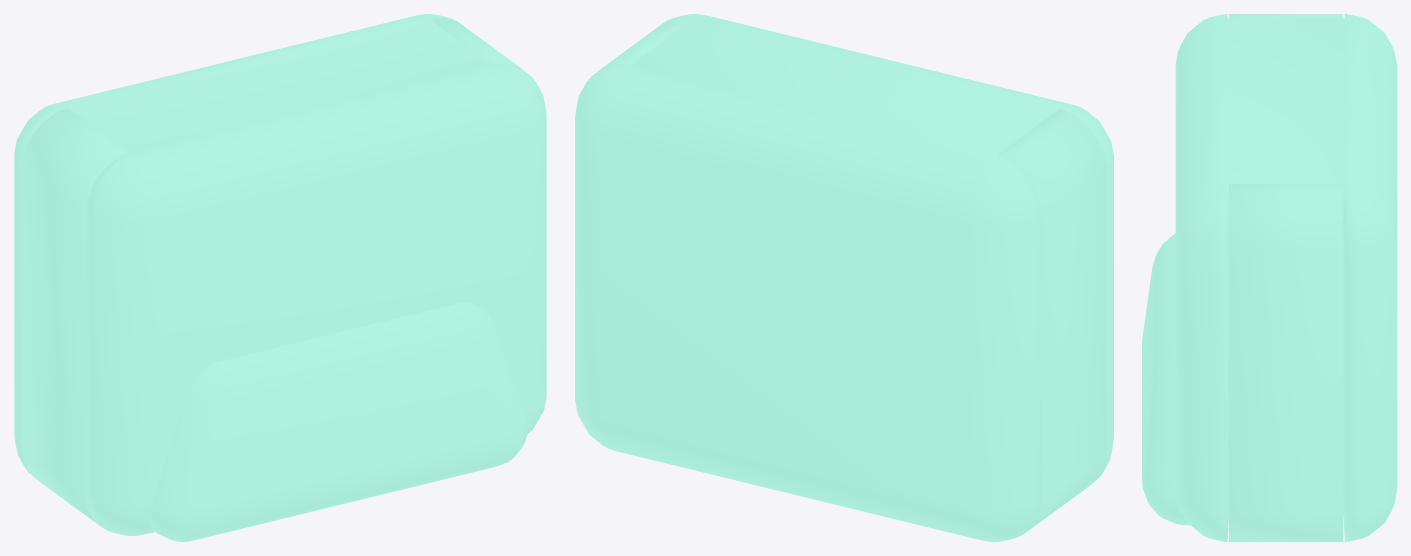
The model's file is outline_grey.glb.
3 renders of one model, left to right at view 1: azimuth 30°, elevation 25°; view 2: azimuth 150°, elevation 25°; view 3: azimuth 270°, elevation 25°, orthographic. The views are drawn at different scales.
Parts seen in each view (by area): view 1: head.002; view 2: head.002; view 3: head.002, head.001.
Part boxes in pixels (box(x1,y1,x2,y2)): head.002: box(14, 14, 546, 541); head.002: box(575, 14, 1113, 541); head.002: box(1142, 14, 1396, 541); head.001: box(1225, 187, 1346, 536).
Size of the model in its own units: 2.25 by 1.79 by 1.16.
